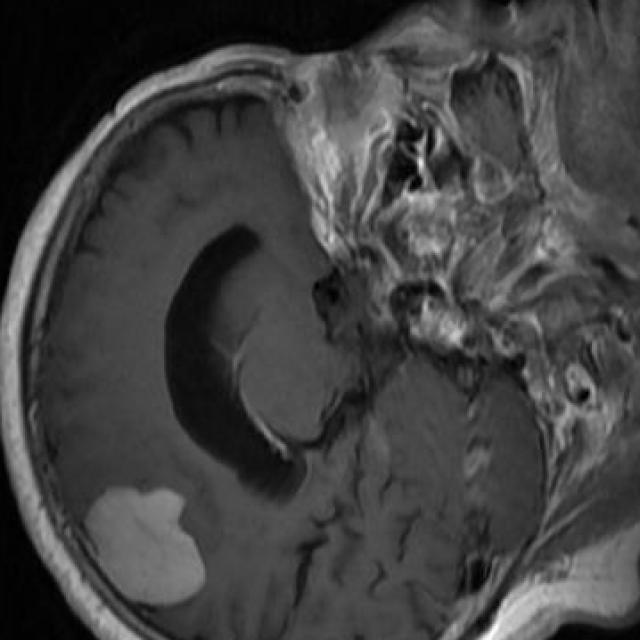meningioma: (86, 488, 207, 608)
